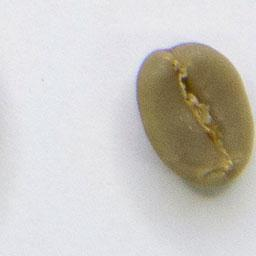premium: (132, 37, 256, 191)
